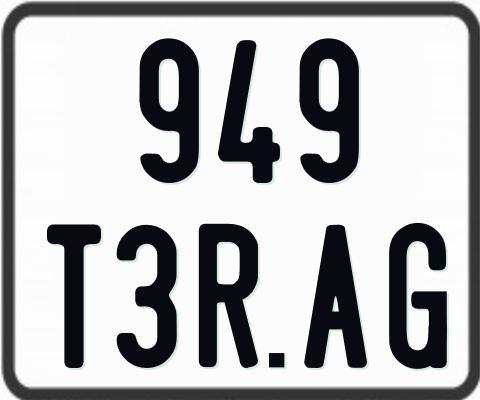3: (115, 223, 177, 372)
4: (217, 39, 283, 186)
9: (298, 37, 363, 188), (137, 36, 199, 184)
A: (302, 222, 369, 370)
G: (386, 221, 449, 372)
R: (196, 222, 260, 366)
T: (46, 223, 103, 369)
